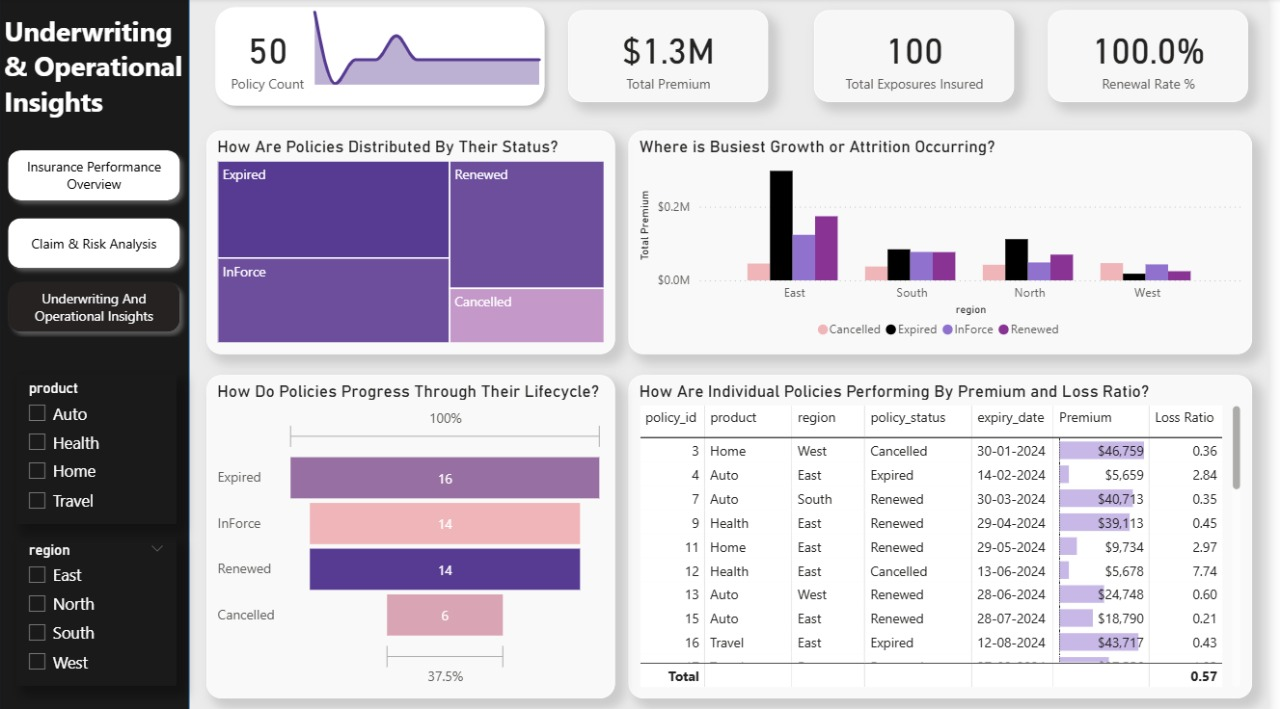

Layout of this report page (visuals, bound fields, positions):
{"tool":"powerbi","page":{"name":"Underwriting And Operational Insights","canvas":[1280,720],"ordinal":2},"visuals":[{"type":"shape","box":[9.6,0,190.7,720.4],"z":0},{"type":"card","fields":{"Values":["Measures_.Total Premium"]},"box":[579.1,12.3,200.3,91.9],"z":1000},{"type":"card","fields":{"Values":["Measures_.Total Exposures Insured"]},"box":[824.7,12.3,200.3,91.9],"z":2000},{"type":"card","fields":{"Values":["Measures_.Renewal Rate %"]},"box":[1059.4,12.3,200.3,91.9],"z":3000},{"type":"treemap","title":"Which Products Contribute Most to the Overall Loss Ratio?","fields":{"Group":["insurance policy.policy_status"],"Values":["Measures_.Policy Count"]},"box":[216.8,133.1,408.9,223.7],"z":4000},{"type":"textbox","box":[9.6,9.6,207.2,123.5],"z":5000},{"type":"pageNavigator","box":[9.6,144.1,190.7,197.6],"z":6000},{"type":"shape","box":[216.8,0,347.2,116.6],"z":10000},{"type":"card","fields":{"Values":["Measures_.Policy Count"]},"box":[220.9,0,115.3,116.6],"z":11000},{"type":"areaChart","title":"How Are Claims Distributed by Status?","fields":{"Y":["Measures_.Policy Count"],"Category":["Date.MonthName"]},"box":[312.9,0,251.1,91.9],"z":12000},{"type":"slicer","fields":{"Values":["insurance policy.product"]},"box":[26.1,377.4,160.5,149.6],"z":13000},{"type":"slicer","fields":{"Values":["insurance account.region"]},"box":[26.1,539.3,160.5,149.6],"z":14000},{"type":"clusteredColumnChart","title":"Where is Busiest Growth or Attrition Occurring?","fields":{"Category":["insurance account.region"],"Y":["Measures_.Total Premium"],"Series":["insurance policy.policy_status"]},"box":[639.5,133.1,624.4,223.7],"z":15000},{"type":"tableEx","title":"What''s Driving Reserve Amounts Across Exposures?","fields":{"Values":["insurance policy.policy_id","insurance policy.product","insurance account.region","insurance policy.policy_status","insurance policy.expiry_date","insurance policy.written_premium","Measures_.Loss Ratio %"]},"box":[639.5,377.4,624.4,323.8],"z":15001},{"type":"funnel","title":"How Do Policies Progress Through Their Lifecycle?","fields":{"Category":["insurance policy.policy_status"],"Y":["Measures_.Policy Count"]},"box":[216.8,377.4,408.9,323.8],"z":15002}]}

Visuals, with their boxes on the page's 1280x720 design canvas (x1, y1, x2, y2). These are canvas units, not pixel positions in the 1280x709 screenshot, which may show the page scaled, cropped or inside an application window:
shape: x1=10 y1=0 x2=200 y2=720
card - Measures_.Total Premium: x1=579 y1=12 x2=779 y2=104
card - Measures_.Total Exposures Insured: x1=825 y1=12 x2=1025 y2=104
card - Measures_.Renewal Rate %: x1=1059 y1=12 x2=1260 y2=104
"Which Products Contribute Most to the Overall Loss Ratio?" treemap: x1=217 y1=133 x2=626 y2=357
textbox: x1=10 y1=10 x2=217 y2=133
pageNavigator: x1=10 y1=144 x2=200 y2=342
shape: x1=217 y1=0 x2=564 y2=117
card - Measures_.Policy Count: x1=221 y1=0 x2=336 y2=117
"How Are Claims Distributed by Status?" areaChart: x1=313 y1=0 x2=564 y2=92
slicer - insurance policy.product: x1=26 y1=377 x2=187 y2=527
slicer - insurance account.region: x1=26 y1=539 x2=187 y2=689
"Where is Busiest Growth or Attrition Occurring?" clusteredColumnChart: x1=640 y1=133 x2=1264 y2=357
"What''s Driving Reserve Amounts Across Exposures?" tableEx: x1=640 y1=377 x2=1264 y2=701
"How Do Policies Progress Through Their Lifecycle?" funnel: x1=217 y1=377 x2=626 y2=701
